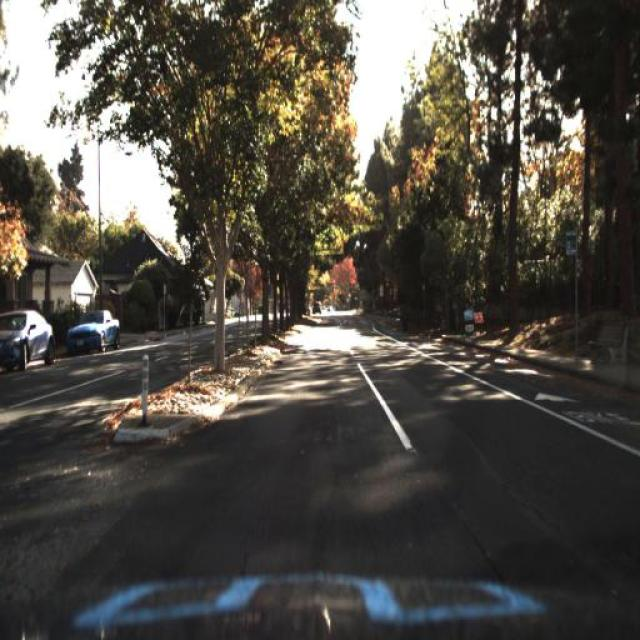car: (1, 306, 57, 370), (63, 307, 124, 361), (64, 304, 122, 354), (309, 295, 323, 320)
